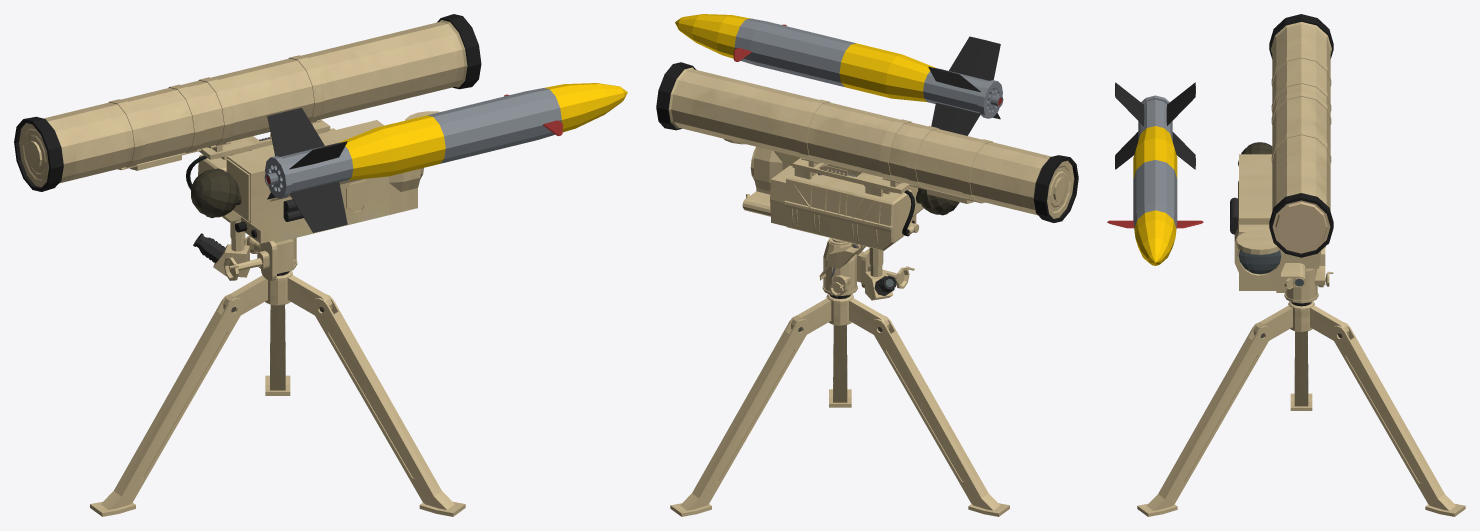
Rendered from kornet.glb.
The picture shows the model from 3 angles, left to right: view 1: azimuth 30°, elevation 25°; view 2: azimuth 150°, elevation 25°; view 3: azimuth 270°, elevation 25°; orthographic projection. The views are drawn at different scales.
Visible parts, largest first — view 1: Object_6, Object_4; view 2: Object_6, Object_4; view 3: Object_6, Object_4.
Boxes of the visible parts, left/top/right/bottom form: Object_6: left=14, top=14, right=481, bottom=516; Object_4: left=264, top=83, right=627, bottom=232; Object_6: left=656, top=62, right=1078, bottom=516; Object_4: left=675, top=14, right=1003, bottom=135; Object_6: left=1137, top=14, right=1465, bottom=516; Object_4: left=1107, top=82, right=1203, bottom=265.
Size of the model in its own units: 9.31 by 7.22 by 6.46.
Materials: 2 (2 with a texture image).
